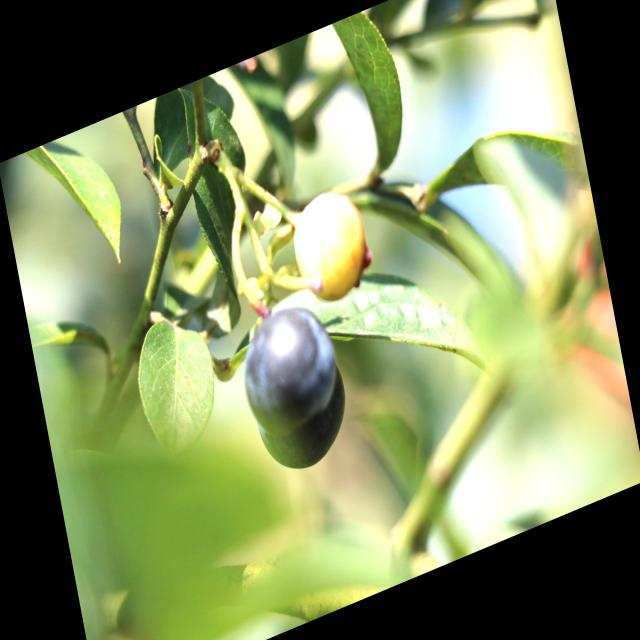blueberry: (228, 292, 352, 443), (249, 376, 369, 494)
blueberry-unripe: (283, 177, 373, 312)
